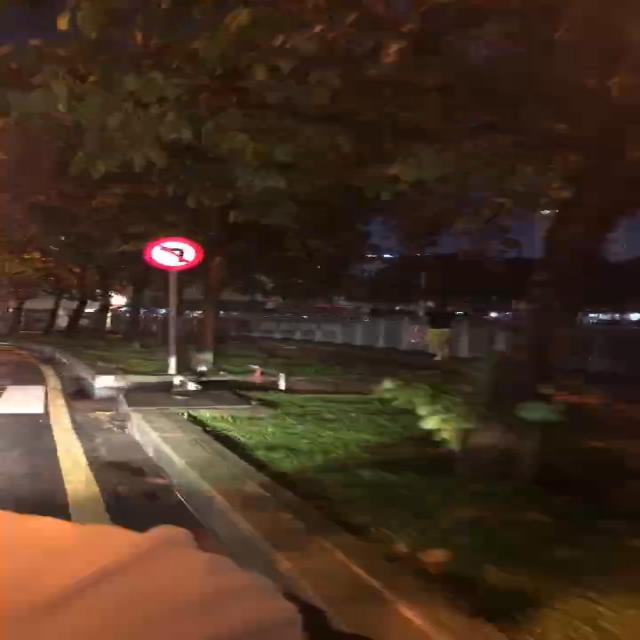Bien bao cam re trai: (136, 232, 213, 274)
